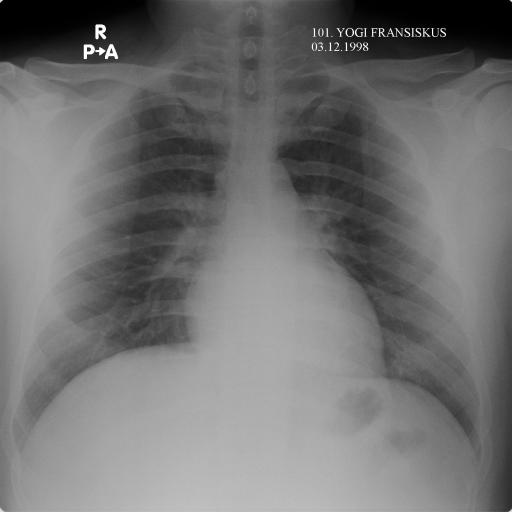normal: (6, 50, 495, 483)
